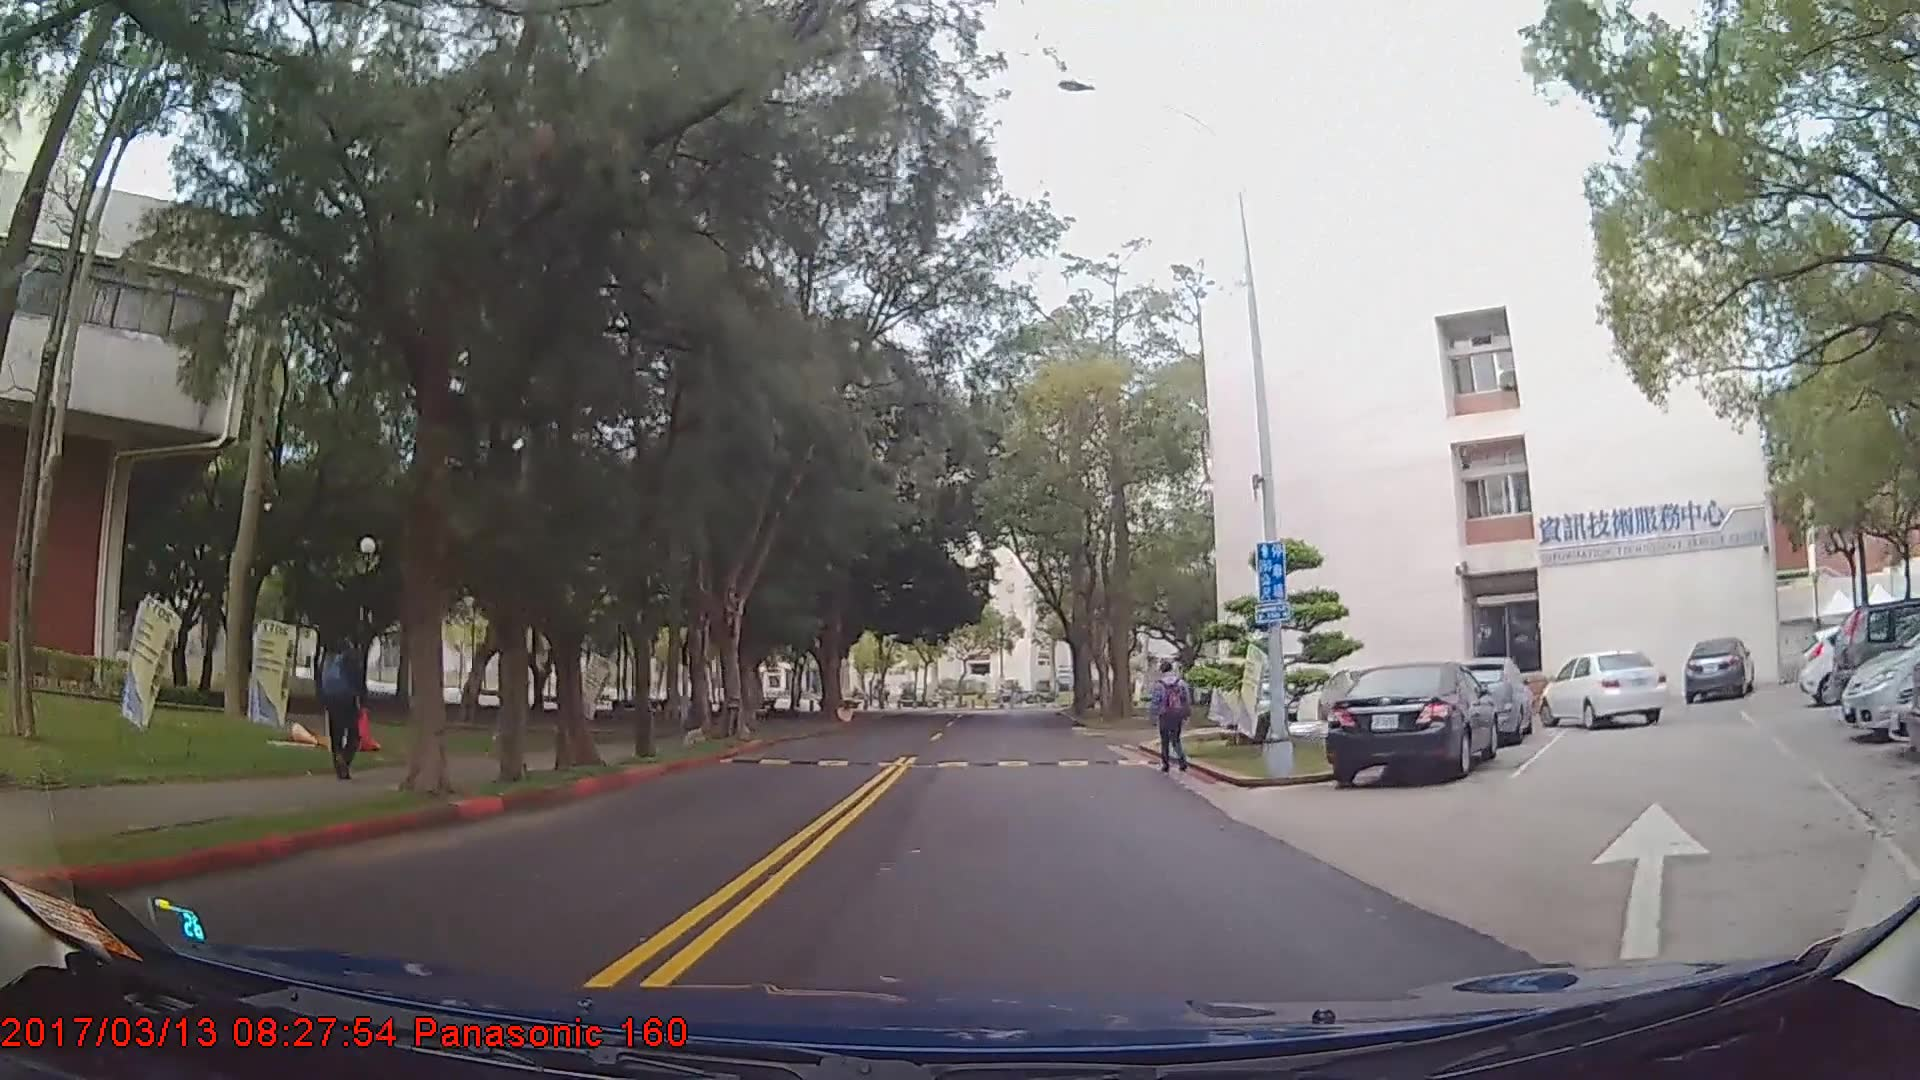pedestrian: (322, 620, 389, 786), (1155, 660, 1198, 780)
vehicle: (1326, 662, 1499, 791), (1830, 598, 1920, 716), (1839, 608, 1920, 737), (1539, 650, 1665, 731), (1431, 656, 1537, 745), (1682, 635, 1751, 705)
